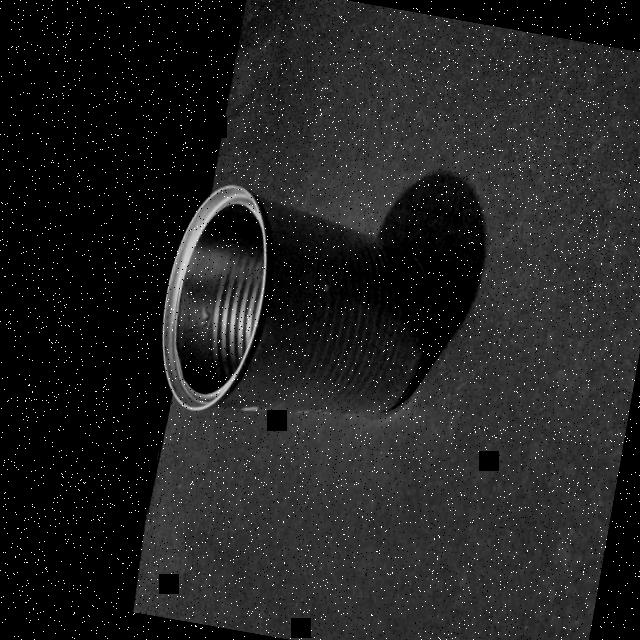can: (140, 168, 458, 454)
